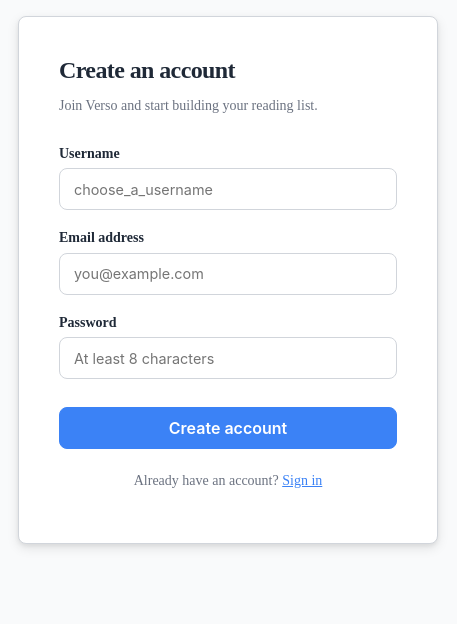
Test case: Register.vue › shows an error when registration fails
In the field with id "username": (228, 189) [59,168,397,210], type "alice"
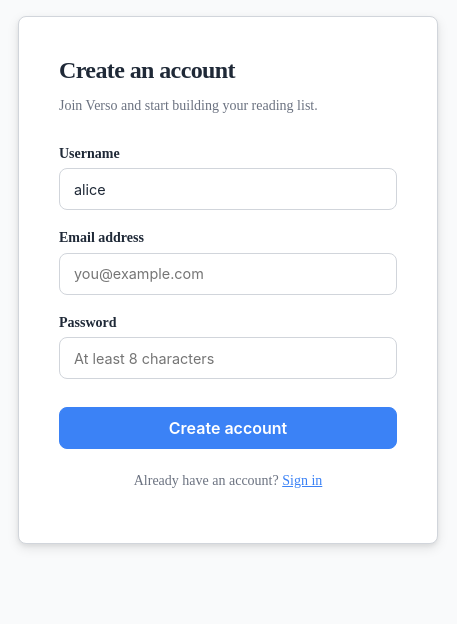
In the field with id "email": (228, 274) [59,253,397,295], type "alice@example.com"
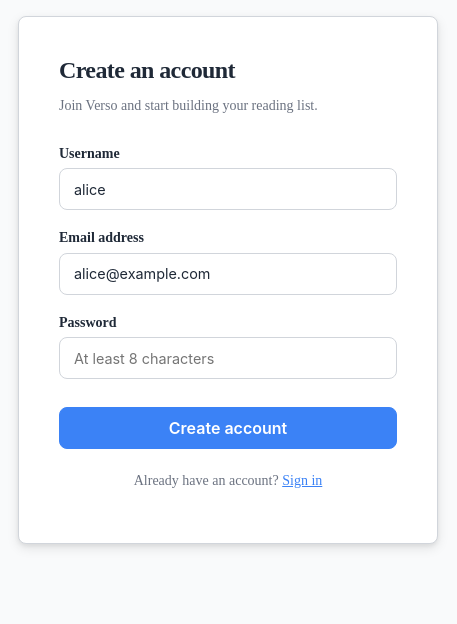
In the password field labelled "Password": (228, 358) [59,337,397,379], type "secret123"
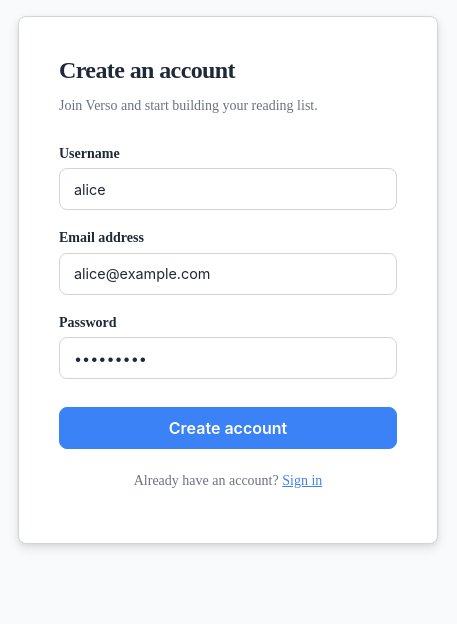
Submit the form, box [59,146,397,449]
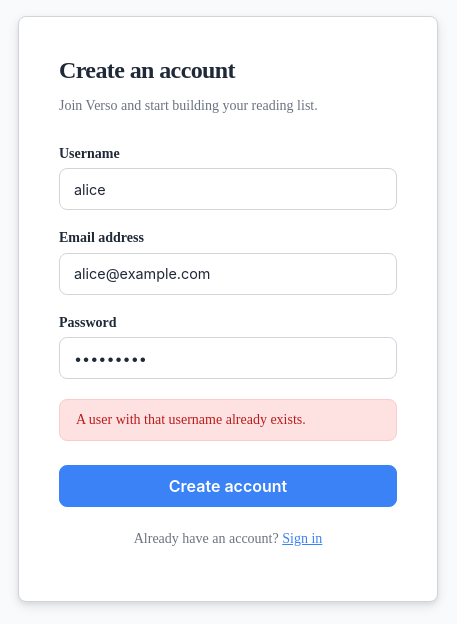
Check: the text "already exists" is shown, box [76,412,306,427]
